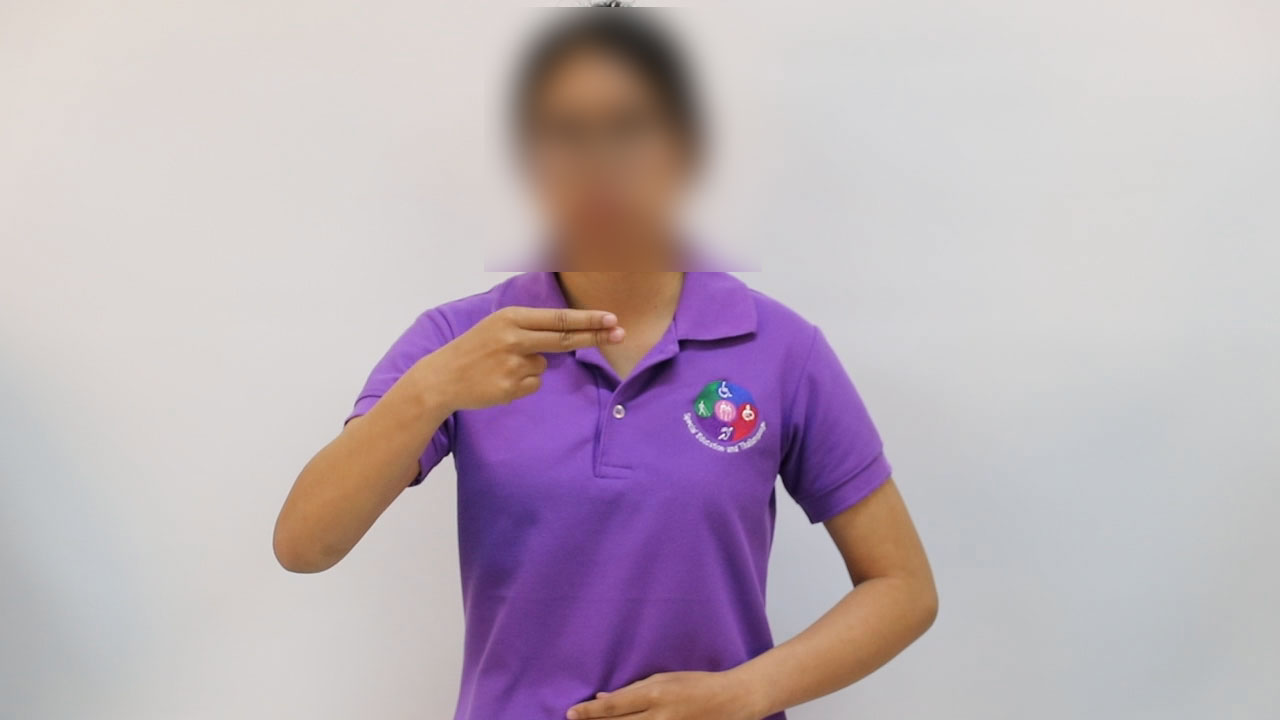hor: (399, 292, 640, 425)
